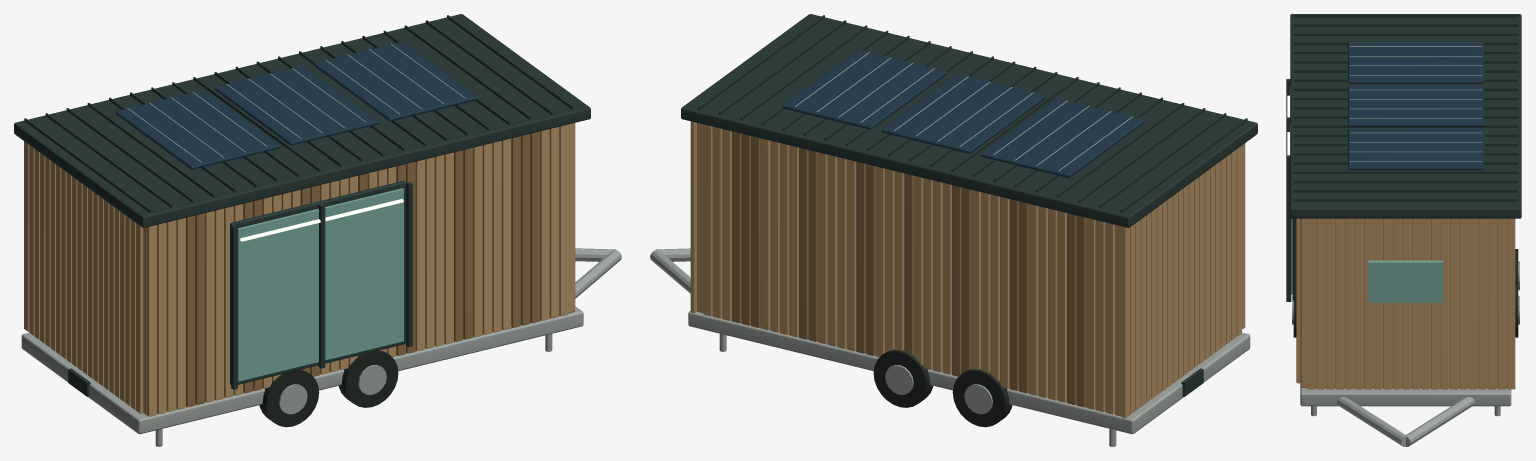
File: tiny_liberte.glb
3 renders of one model, left to right at view 1: azimuth 30°, elevation 25°; view 2: azimuth 150°, elevation 25°; view 3: azimuth 270°, elevation 25°, orthographic. The views are drawn at different scales.
Visible parts, largest first — view 1: Falcovaná střecha, Dvojsklo, Vlemmix pozinkovaný rám, Solární modul, Solární modul.002, Solární modul.001, Francouzská panoramatická okna, Izolovaný plášť, Svislé modřínové palubky.057, Svislé modřínové palubky.075, Svislé modřínové palubky.085, Svislé modřínové palubky.005 (+61 smaller); view 2: Falcovaná střecha, Vlemmix pozinkovaný rám, Solární modul.002, Solární modul.001, Solární modul, Svislé modřínové palubky.056, Svislé modřínové palubky.074, Svislé modřínové palubky.084, Svislé modřínové palubky.004, Svislé modřínové palubky.018, Svislé modřínové palubky.060, Svislé modřínové palubky.070 (+75 smaller); view 3: Falcovaná střecha, Izolovaný plášť, Solární modul, Solární modul.002, Solární modul.001, Vlemmix pozinkovaný rám, Boční koupelnové okno, Boční obklad.001, Boční obklad.003, Boční obklad.005, Boční obklad.007, Boční obklad.009 (+47 smaller).
Boxes of the visible parts, x1,y1,x2,y2 form: Falcovaná střecha: [14, 14, 590, 227]; Dvojsklo: [238, 188, 403, 381]; Vlemmix pozinkovaný rám: [21, 306, 583, 434]; Solární modul: [115, 90, 279, 169]; Solární modul.002: [313, 41, 477, 121]; Solární modul.001: [214, 66, 378, 145]; Francouzská panoramatická okna: [230, 180, 406, 384]; Izolovaný plášť: [143, 123, 575, 415]; Svislé modřínové palubky.057: [415, 159, 425, 351]; Svislé modřínové palubky.075: [501, 138, 511, 330]; Svislé modřínové palubky.085: [549, 127, 559, 318]; Svislé modřínové palubky.005: [166, 220, 176, 411]; Falcovaná střecha: [681, 14, 1257, 227]; Vlemmix pozinkovaný rám: [688, 311, 1250, 434]; Solární modul.002: [782, 50, 946, 129]; Solární modul.001: [881, 74, 1045, 153]; Solární modul: [980, 98, 1144, 177]; Svislé modřínové palubky.056: [846, 159, 856, 351]; Svislé modřínové palubky.074: [760, 138, 770, 330]; Svislé modřínové palubky.084: [712, 127, 722, 318]; Svislé modřínové palubky.004: [1095, 220, 1105, 411]; Svislé modřínové palubky.018: [1028, 204, 1038, 395]; Svislé modřínové palubky.060: [827, 155, 837, 346]; Svislé modřínové palubky.070: [779, 143, 789, 334]; Falcovaná střecha: [1290, 14, 1521, 218]; Izolovaný plášť: [1300, 218, 1507, 387]; Solární modul: [1348, 42, 1483, 83]; Solární modul.002: [1348, 129, 1483, 170]; Solární modul.001: [1348, 86, 1483, 126]; Vlemmix pozinkovaný rám: [1300, 387, 1511, 406]; Boční koupelnové okno: [1368, 260, 1443, 302]; Boční obklad.001: [1507, 218, 1515, 389]; Boční obklad.003: [1497, 218, 1505, 389]; Boční obklad.005: [1488, 218, 1496, 389]; Boční obklad.007: [1478, 218, 1486, 389]; Boční obklad.009: [1469, 218, 1477, 389].
Size of the model in its own units: 8.2 by 3.7 by 3.46.
